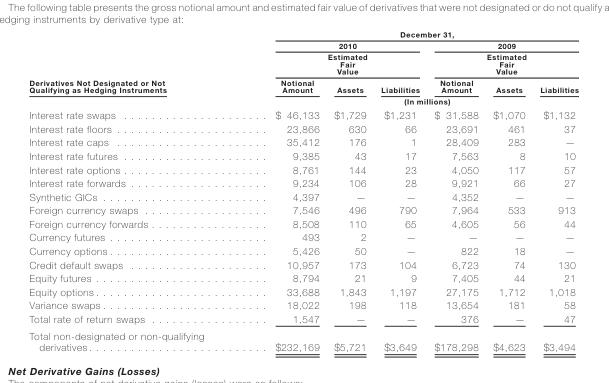table: (28, 29, 577, 352)
table column: (28, 29, 239, 352), (239, 29, 322, 352), (426, 29, 481, 352), (372, 29, 426, 352), (322, 29, 372, 352), (481, 29, 531, 352), (531, 29, 577, 352)
table column header: (28, 29, 577, 107)
table row: (28, 50, 577, 80), (28, 327, 577, 352), (28, 311, 577, 327), (28, 80, 577, 95), (28, 107, 577, 121), (28, 121, 577, 135), (28, 148, 577, 162), (28, 175, 577, 189), (28, 189, 577, 203), (28, 216, 577, 230), (28, 243, 577, 257), (28, 270, 577, 284), (28, 284, 577, 298), (28, 135, 577, 148), (28, 162, 577, 175), (28, 203, 577, 216), (28, 230, 577, 243), (28, 257, 577, 270), (28, 298, 577, 311), (28, 95, 577, 107), (28, 39, 577, 50), (28, 29, 577, 39)
table spanning cell: (28, 29, 239, 107), (239, 95, 577, 107), (239, 50, 322, 95), (239, 29, 577, 39), (322, 50, 426, 80), (481, 50, 577, 80), (426, 50, 481, 95), (239, 39, 426, 50), (426, 39, 577, 50)
